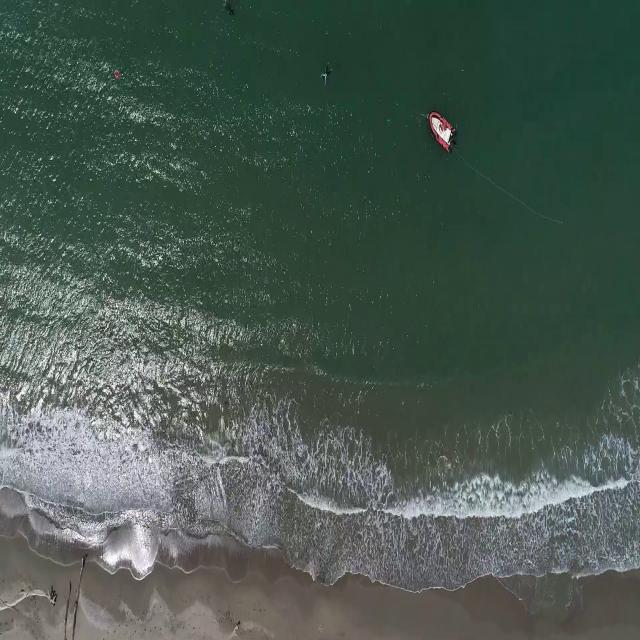boat: (429, 109, 456, 155)
life_buoy: (112, 68, 121, 80)
person: (320, 64, 334, 88), (224, 4, 239, 20)
wood: (64, 555, 86, 640), (0, 586, 61, 610)
